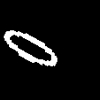chain: (4, 31, 56, 65)
